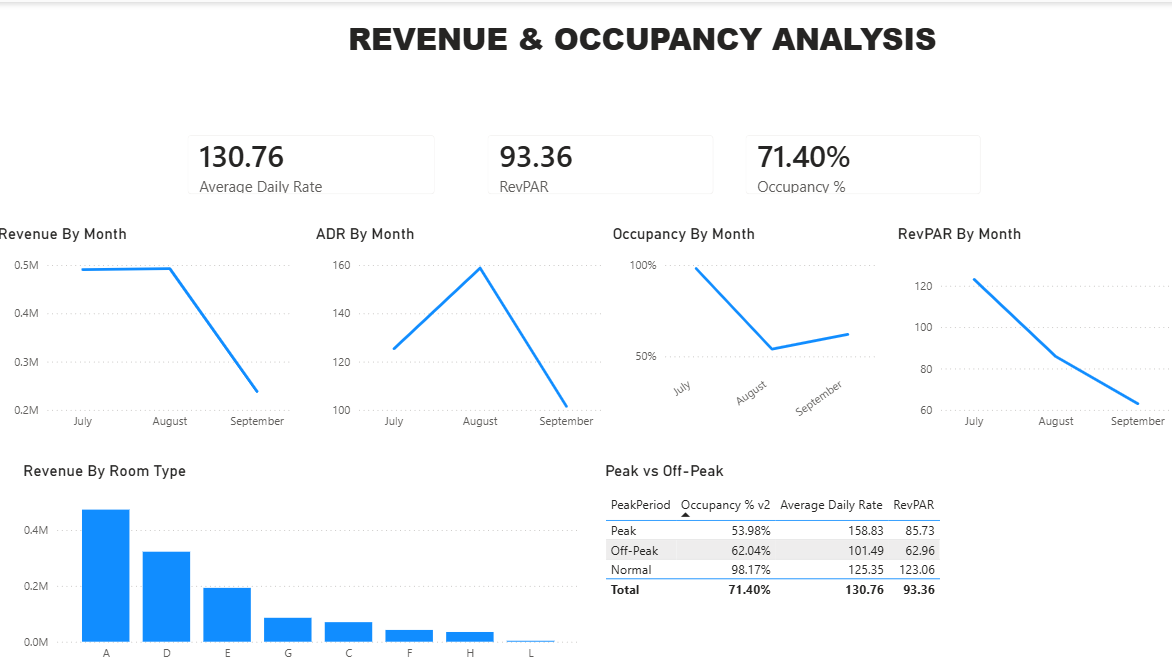

The dashboard page shown, as its layout file describes it:
{"tool":"powerbi","page":{"name":"Page 2","canvas":[1280,720],"ordinal":1},"visuals":[{"type":"textbox","box":[9.7,11.3,1256.5,61.5],"z":0},{"type":"cardVisual","fields":{"Data":["hotelanalytics hotel_bookings_clean.Average Daily Rate"]},"box":[192.7,126.3,301.2,98.8],"z":1000},{"type":"cardVisual","fields":{"Data":["RoomInventory.RevPAR"]},"box":[516.5,126.3,278.5,98.8],"z":2000},{"type":"cardVisual","fields":{"Data":["hotelanalytics hotel_bookings_clean.Occupancy % v2"]},"box":[795,126.3,288.2,98.8],"z":3000},{"type":"lineChart","title":" Revenue By Month","fields":{"Category":["hotelanalytics hotel_bookings_clean.arrival_date_month"],"Y":["hotelanalytics hotel_bookings_clean.Total Revenue"]},"box":[0,239.6,330.3,239.6],"z":4000},{"type":"lineChart","title":"     ADR By Month","fields":{"Category":["hotelanalytics hotel_bookings_clean.arrival_date_month"],"Y":["hotelanalytics hotel_bookings_clean.Average Daily Rate"]},"box":[343.3,239.6,320.6,239.6],"z":5000},{"type":"lineChart","title":"    Occupancy By Month","fields":{"Category":["hotelanalytics hotel_bookings_clean.arrival_date_month"],"Y":["hotelanalytics hotel_bookings_clean.Occupancy % v2"]},"box":[663.3,239.6,296.3,239.6],"z":6000},{"type":"lineChart","title":"    RevPAR By Month","fields":{"Category":["hotelanalytics hotel_bookings_clean.arrival_date_month"],"Y":["RoomInventory.RevPAR"]},"box":[970.7,239.6,309.3,239.6],"z":7000},{"type":"clusteredColumnChart","title":" Revenue By Room Type","fields":{"Category":["hotelanalytics hotel_bookings_clean.reserved_room_type"],"Y":["hotelanalytics hotel_bookings_clean.Total Revenue"]},"box":[27.5,495.5,610.4,225.1],"z":8000},{"type":"tableEx","title":"Peak vs Off-Peak","fields":{"Values":["hotelanalytics hotel_bookings_clean.PeakPeriod","hotelanalytics hotel_bookings_clean.Occupancy % v2","hotelanalytics hotel_bookings_clean.Average Daily Rate","RoomInventory.RevPAR"]},"box":[655.8,495.5,610.4,225.1],"z":9000}]}

Visuals, with their boxes in screenshot pixels (x1, y1, x2, y2), scaled from the page's 1280x720 canvas onto the 1172x664 screenshot:
textbox: (9, 10, 1159, 67)
cardVisual - hotelanalytics hotel_bookings_clean.Average Daily Rate: (176, 116, 452, 208)
cardVisual - RoomInventory.RevPAR: (473, 116, 728, 208)
cardVisual - hotelanalytics hotel_bookings_clean.Occupancy % v2: (728, 116, 992, 208)
" Revenue By Month" lineChart: (0, 221, 302, 442)
"     ADR By Month" lineChart: (314, 221, 608, 442)
"    Occupancy By Month" lineChart: (607, 221, 879, 442)
"    RevPAR By Month" lineChart: (889, 221, 1171, 442)
" Revenue By Room Type" clusteredColumnChart: (25, 457, 584, 663)
"Peak vs Off-Peak" tableEx: (600, 457, 1159, 663)
